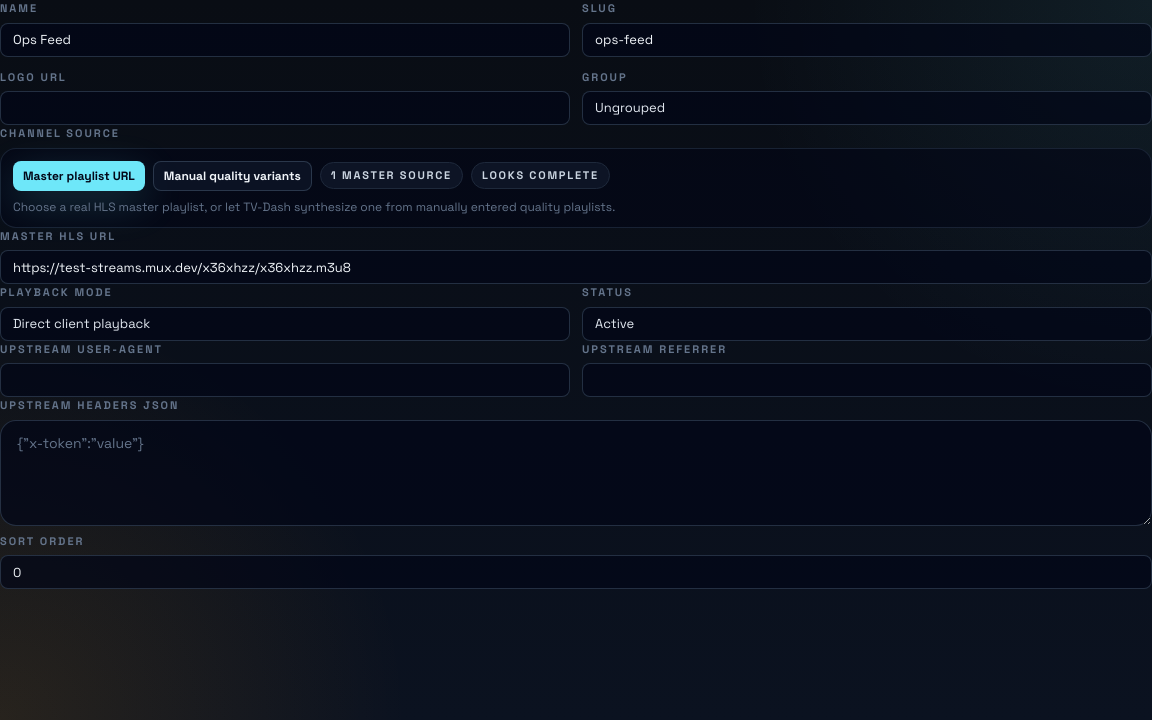
Scenario: ChannelAdminFormFields › switches modes and supports preset, duplicate, and auto-sort workflows
Expected: the text "Master HLS URL" is shown, [0,228,116,242]
Expected: the button "Add row" is not shown
Click the button "Manual quality variants" at (232, 176), box [153,160,312,190]
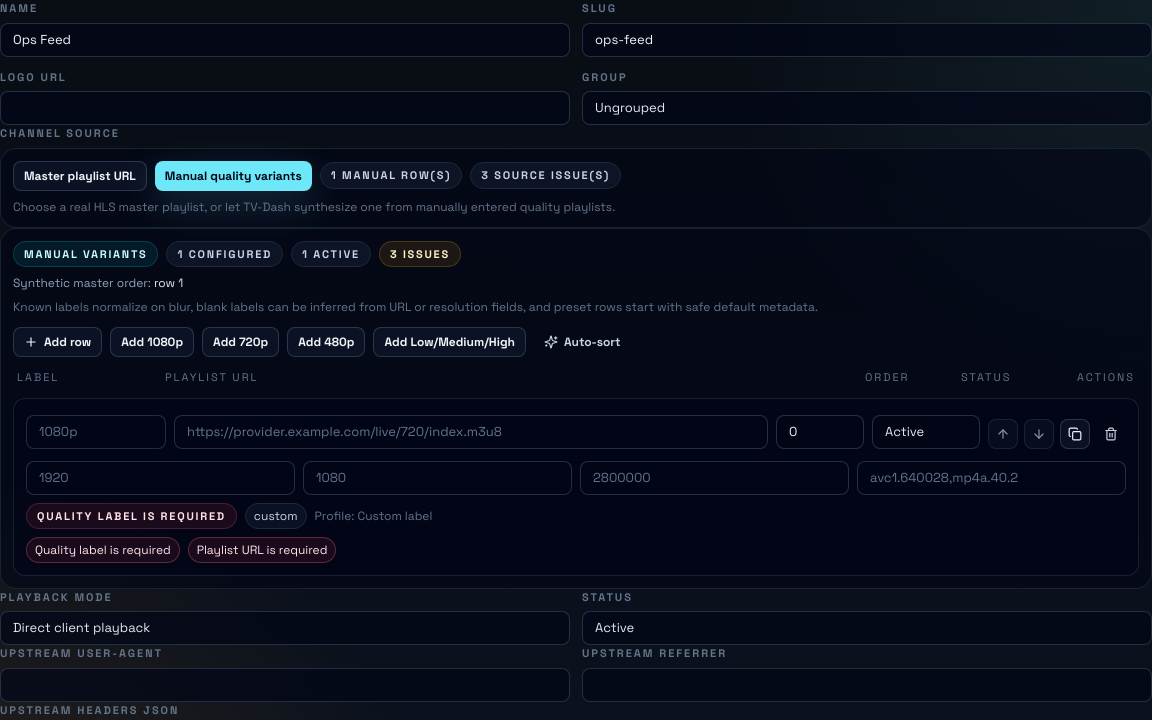
Now the text "Master HLS URL" is gone
Now the button "Add row" is shown, box [13,327,102,357]
Click the button "Add 720p" at (241, 342), box [202,327,279,357]
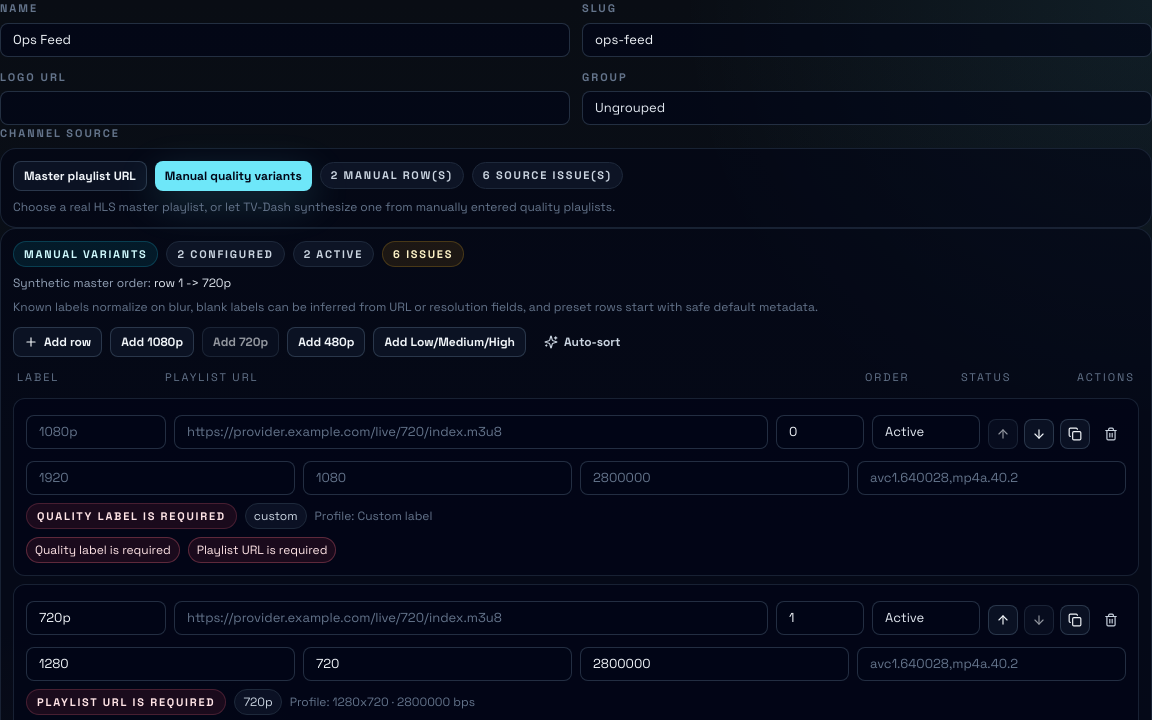
Now the field named "Label" below "Custom label" holds "720p", box [26,600,166,634]
Now the 4th number field named "Height" holds "720", box [303,646,572,680]
Now the 5th number field named "Bandwidth" holds "2800000", box [580,646,849,680]
Click the button named "Duplicate variant 2" at (1075, 620), box [1060,604,1090,634]
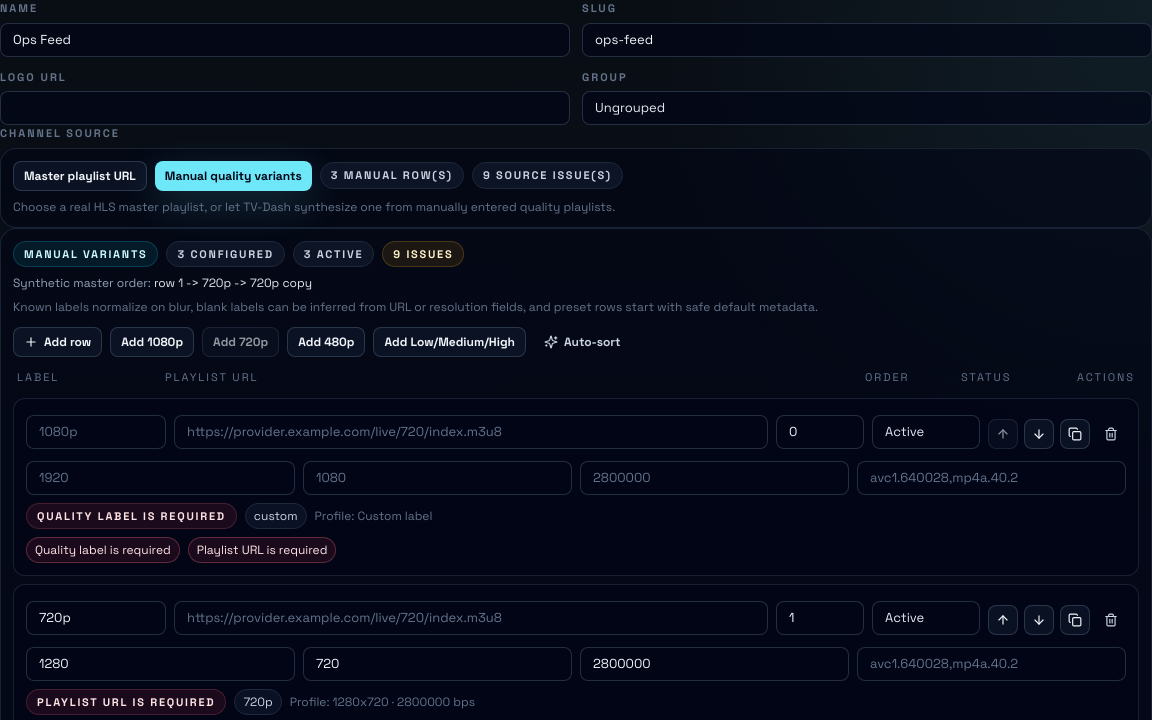
Click the button "Add Low/Medium/High" at (450, 342), box [373,327,526,357]
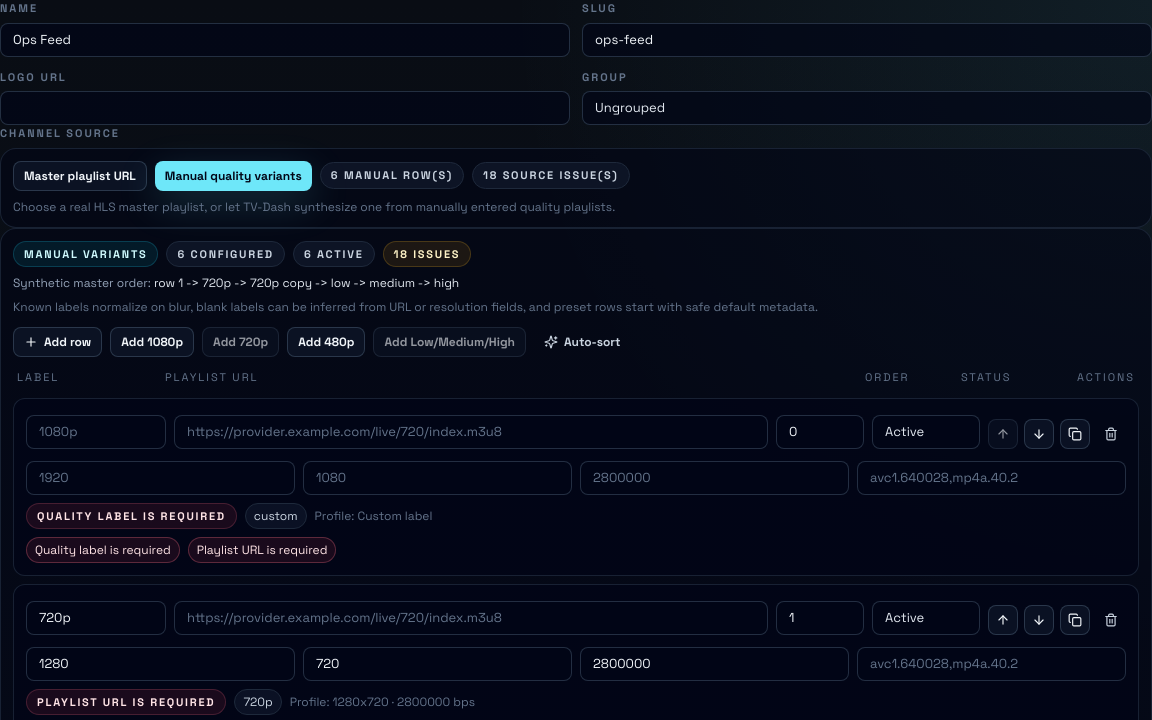
Click the button "Auto-sort" at (582, 342), box [534,327,631,357]
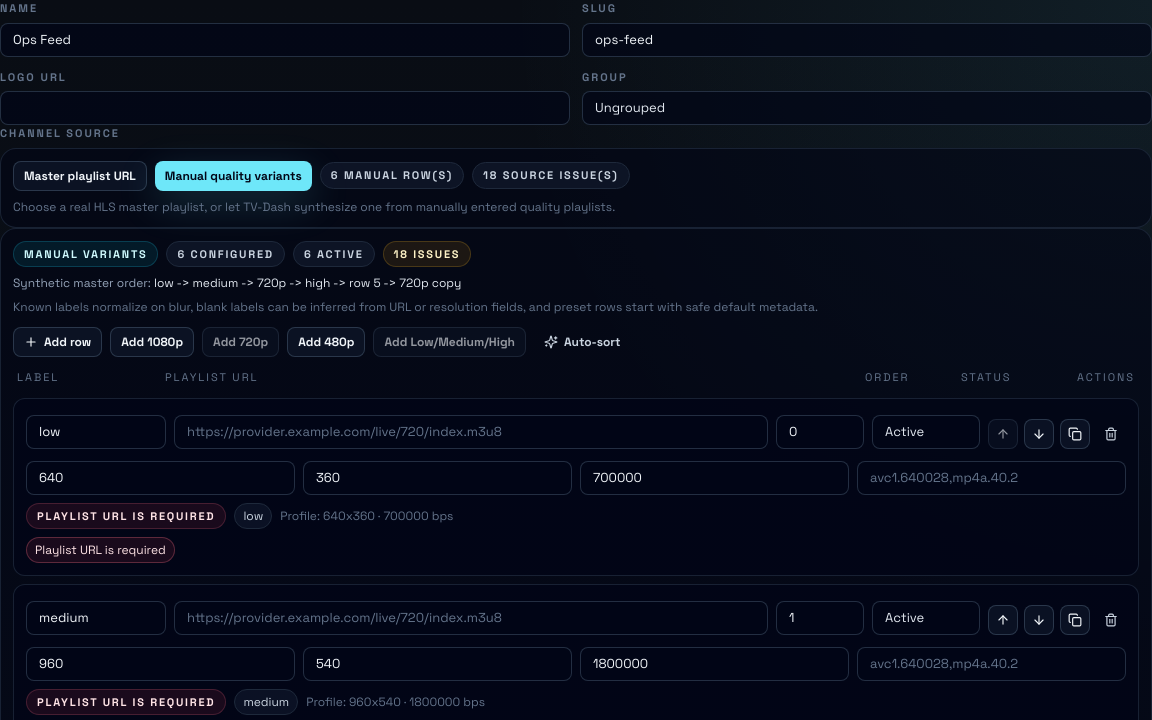
Click the button "Master playlist URL" at (80, 176), box [13,160,147,190]
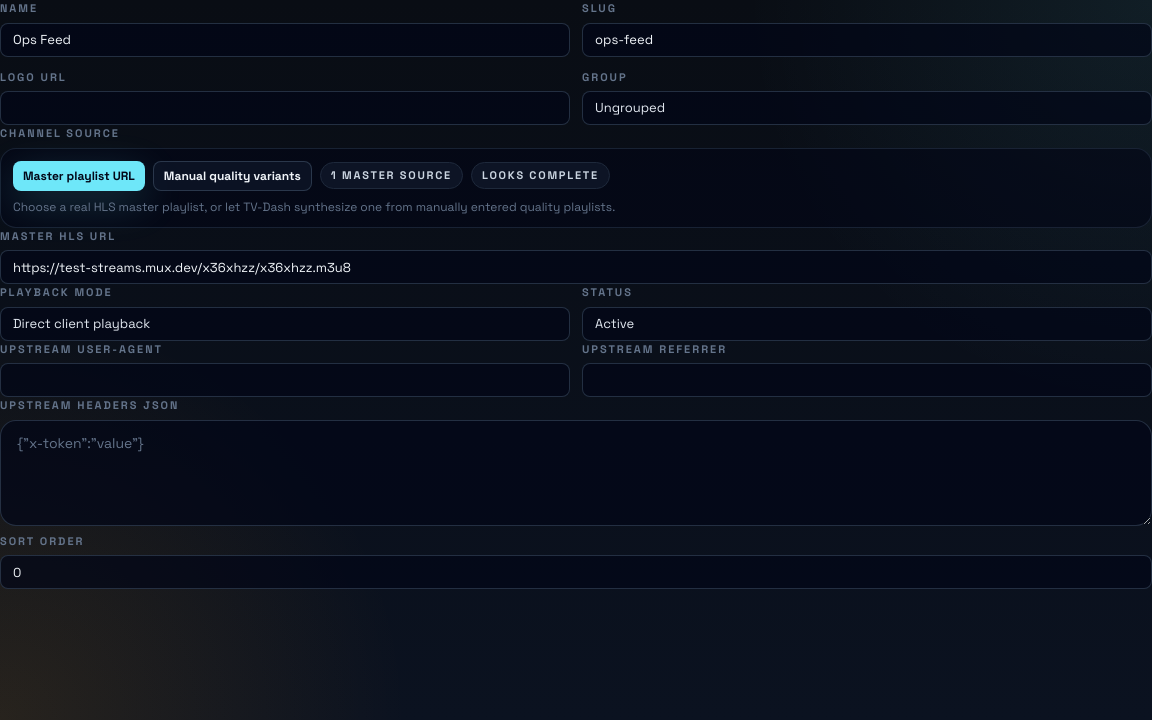
Now the text "Master HLS URL" is shown, box [0,228,116,242]
